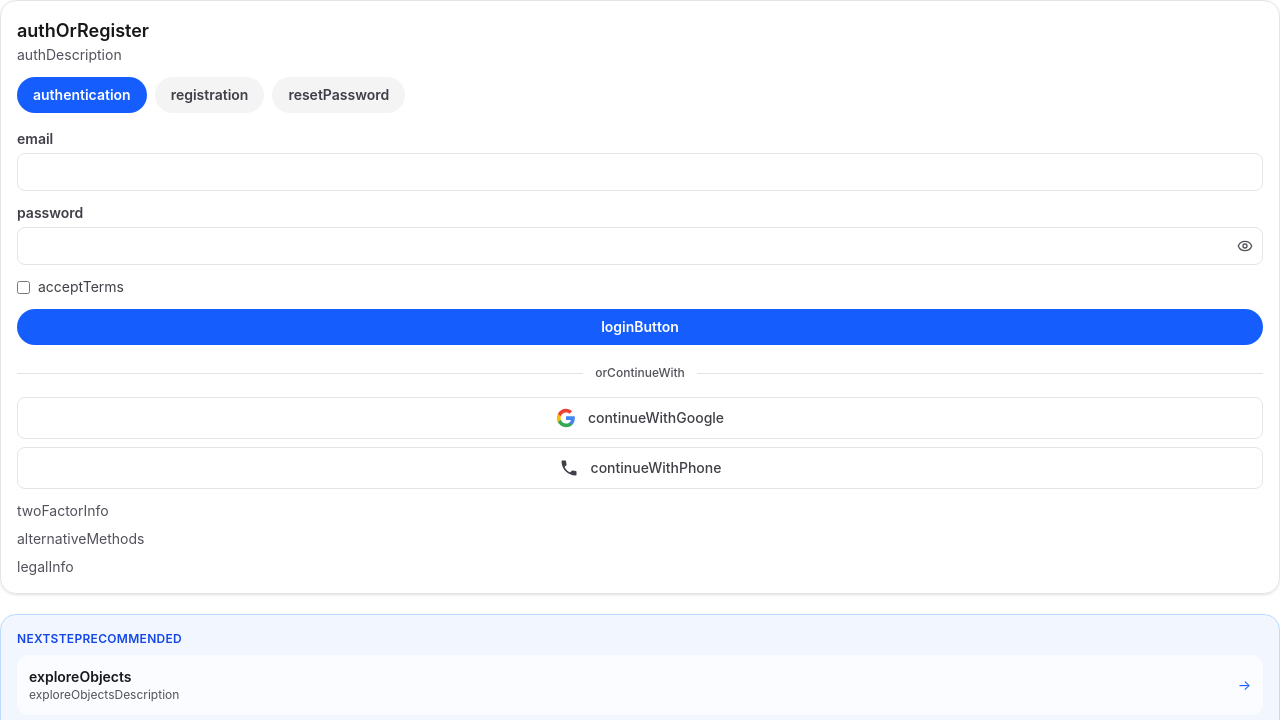
it: LoginPage Component › clicking reset tab hides password field
Click the button "resetPassword" at (339, 95), box [272,77,405,113]
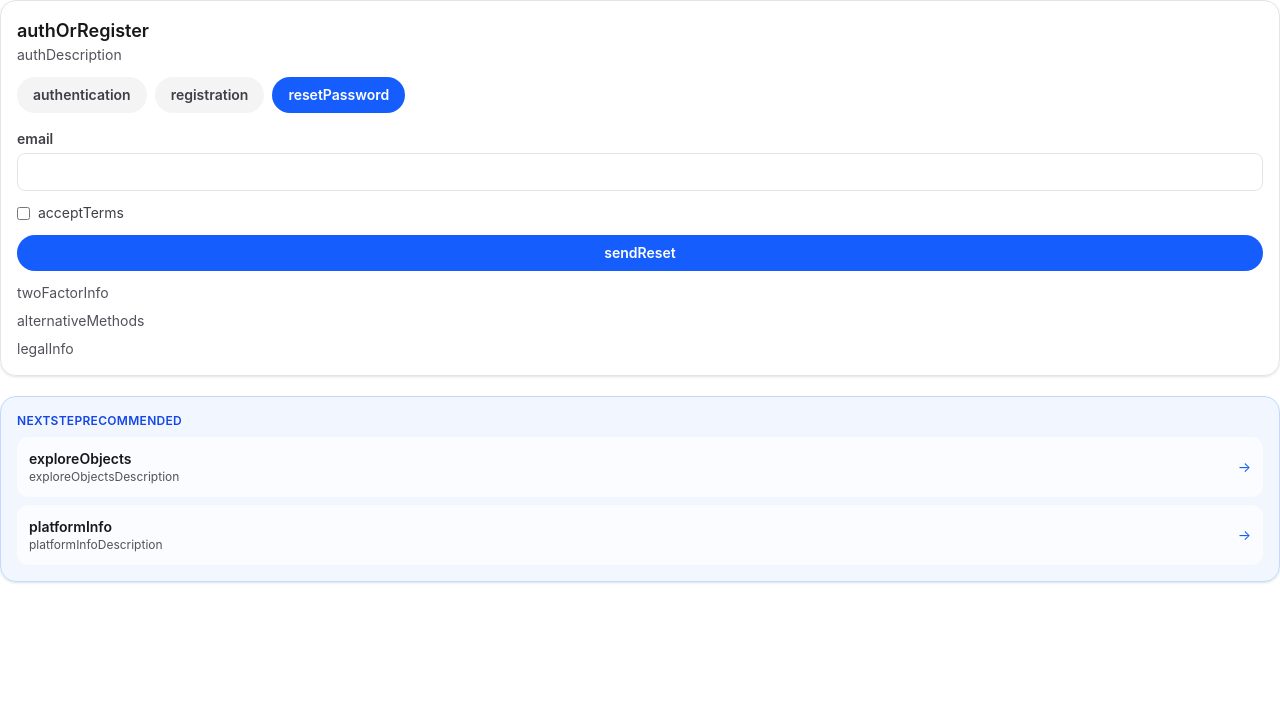
Expected: no password fields are shown
